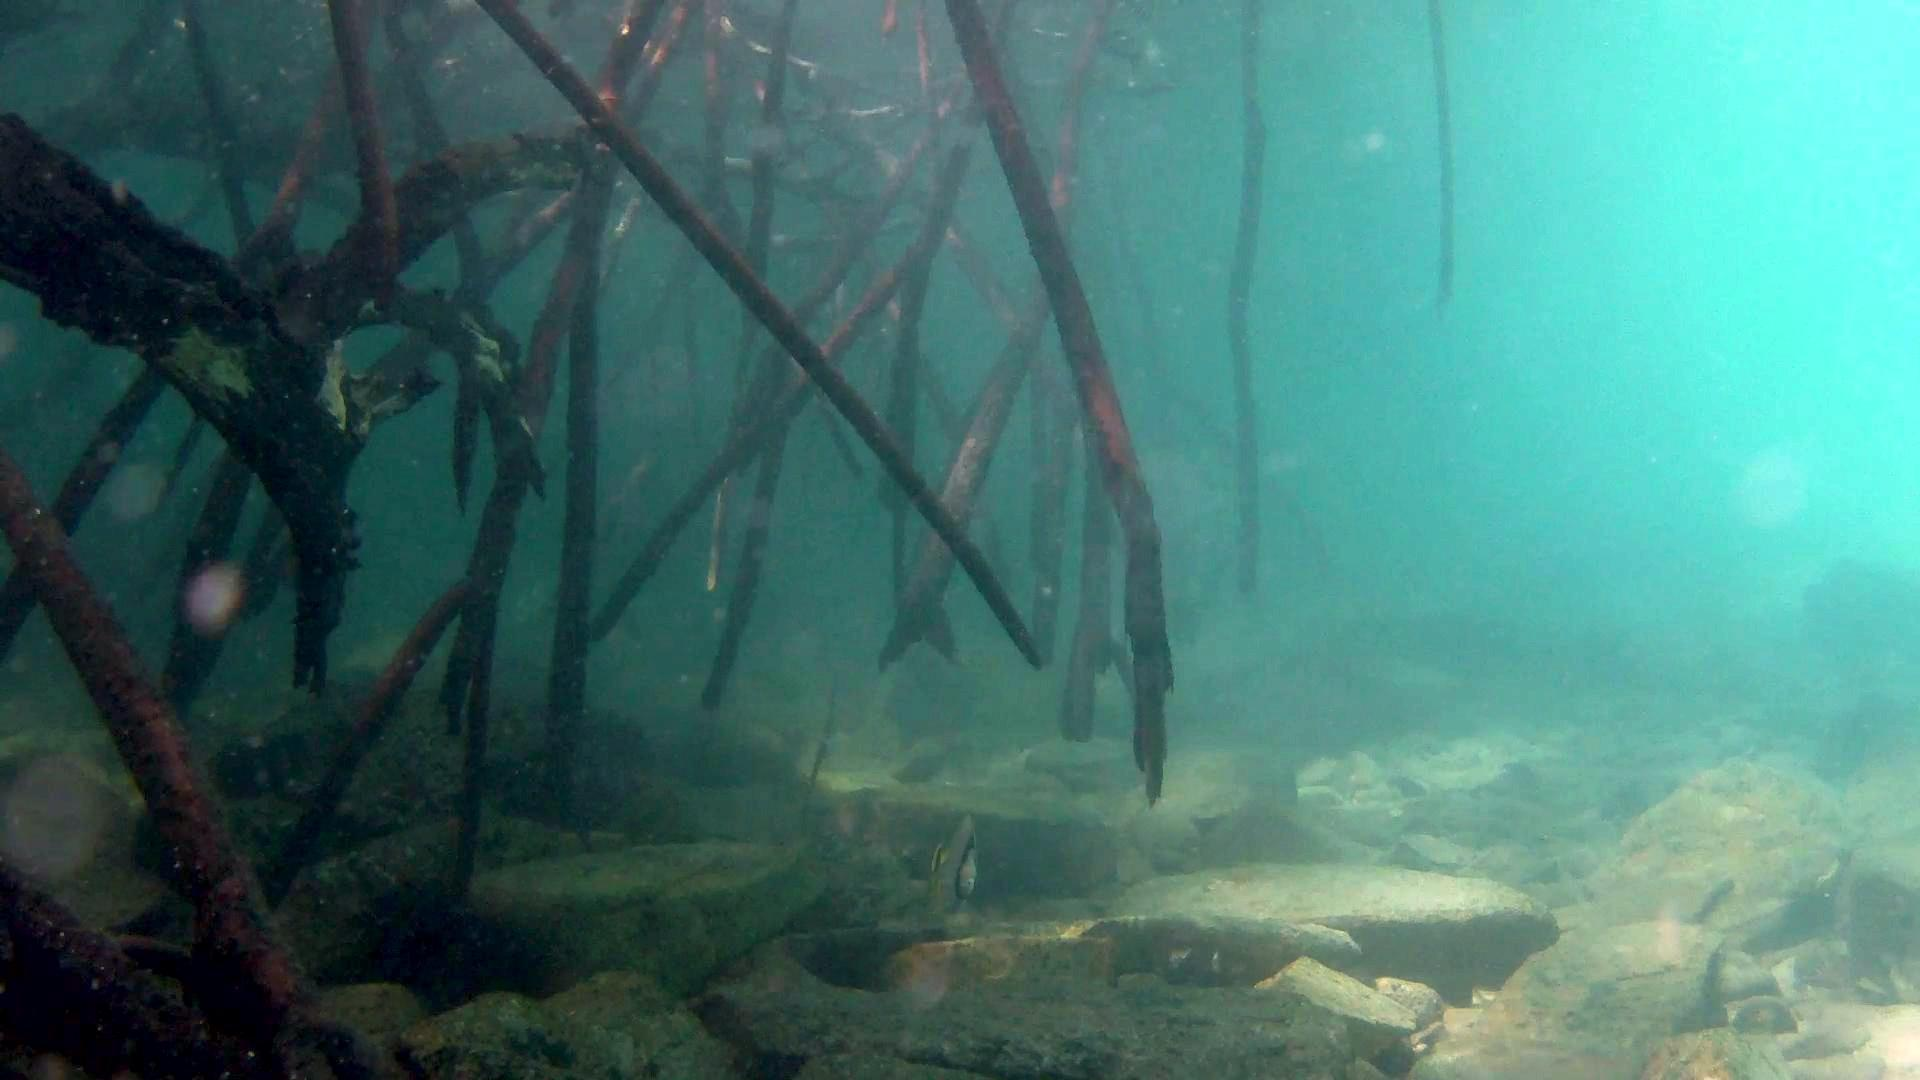chaetodon vagabundus: (926, 807, 982, 923)
